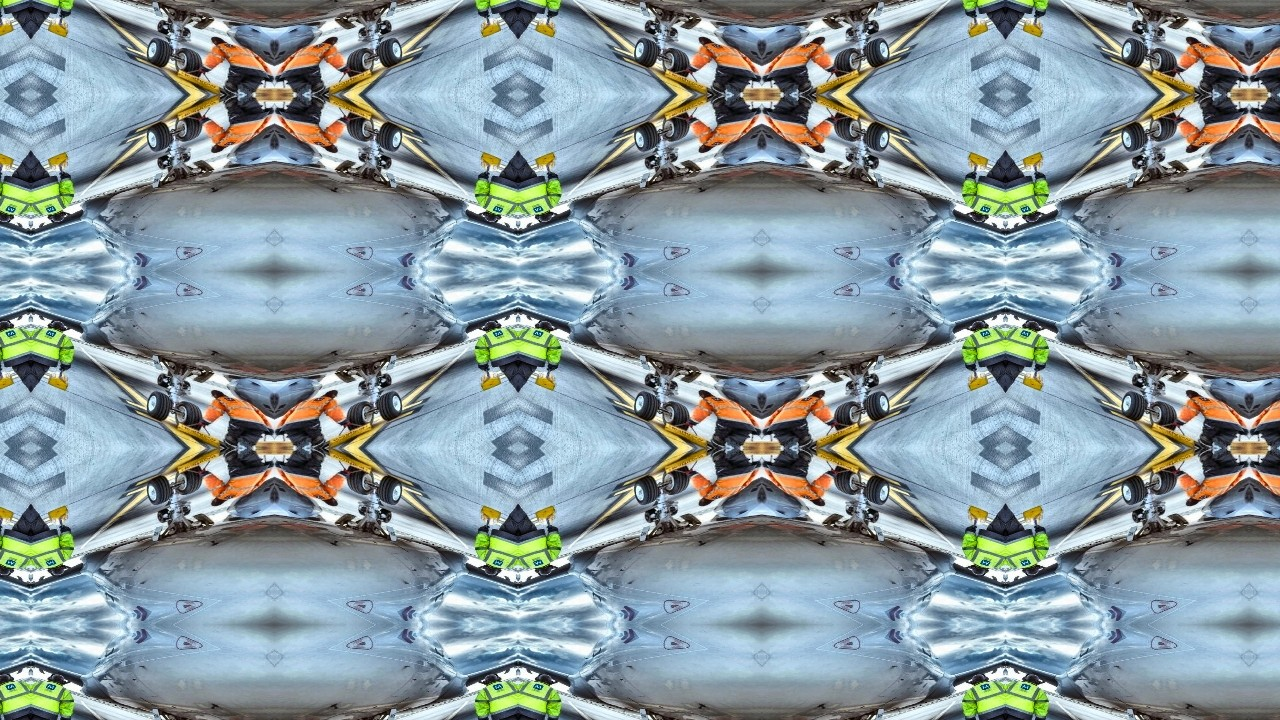chock: (176, 94, 223, 121), (325, 94, 372, 121), (664, 94, 711, 121), (813, 94, 860, 121), (1152, 94, 1199, 121), (176, 448, 223, 475), (325, 448, 372, 475), (664, 448, 711, 475), (813, 448, 860, 475), (1152, 448, 1199, 475), (176, 68, 223, 94), (325, 68, 372, 94), (664, 68, 711, 94), (813, 68, 860, 94), (1152, 68, 1199, 94), (176, 422, 223, 448), (325, 422, 372, 448), (664, 422, 711, 448), (813, 422, 860, 448), (1152, 422, 1199, 448), (44, 14, 74, 40), (474, 14, 504, 40), (532, 14, 562, 40), (962, 14, 992, 40), (1020, 14, 1050, 40), (44, 149, 74, 175), (474, 149, 504, 175), (532, 149, 562, 175), (962, 149, 992, 175), (1020, 149, 1050, 175), (44, 368, 74, 394), (474, 368, 504, 394), (532, 368, 562, 394), (962, 368, 992, 394), (1020, 368, 1050, 394), (44, 503, 74, 529), (474, 503, 504, 529), (532, 503, 562, 529), (962, 503, 992, 529), (1020, 503, 1050, 529), (0, 14, 16, 40), (0, 149, 16, 175), (0, 368, 16, 394), (0, 503, 16, 529)
wheel: (170, 107, 205, 146), (343, 107, 378, 146), (658, 107, 693, 146), (831, 107, 866, 146), (1146, 107, 1181, 146), (170, 461, 205, 500), (343, 461, 378, 500), (658, 461, 693, 500), (831, 461, 866, 500), (1146, 461, 1181, 500), (170, 43, 205, 81), (343, 43, 378, 81), (658, 43, 693, 81), (831, 43, 866, 81), (1146, 43, 1181, 81), (170, 397, 205, 435), (343, 397, 378, 435), (658, 397, 693, 435), (831, 397, 866, 435), (1146, 397, 1181, 435), (142, 33, 174, 71), (374, 33, 406, 71), (630, 33, 662, 71), (862, 33, 894, 71), (1118, 33, 1150, 71), (142, 117, 174, 155), (374, 117, 406, 155), (630, 117, 662, 155), (862, 117, 894, 155), (1118, 117, 1150, 155), (142, 387, 174, 425), (374, 387, 406, 425), (630, 387, 662, 425), (862, 387, 894, 425), (1118, 387, 1150, 425), (142, 471, 174, 509), (374, 471, 406, 509), (630, 471, 662, 509), (862, 471, 894, 509), (1118, 471, 1150, 509), (155, 17, 171, 35), (377, 17, 393, 35), (643, 17, 659, 35), (865, 17, 881, 35), (1131, 17, 1147, 35), (155, 371, 171, 389), (377, 371, 393, 389), (643, 371, 659, 389), (865, 371, 881, 389), (1131, 371, 1147, 389), (155, 154, 171, 171), (377, 154, 393, 171), (643, 154, 659, 171), (865, 154, 881, 171), (1131, 154, 1147, 171), (155, 508, 171, 525), (377, 508, 393, 525), (643, 508, 659, 525), (865, 508, 881, 525), (1131, 508, 1147, 525), (180, 25, 191, 36), (357, 25, 368, 36), (668, 25, 679, 36), (845, 25, 856, 36), (1156, 25, 1167, 36), (180, 153, 191, 164), (357, 153, 368, 164), (668, 153, 679, 164), (845, 153, 856, 164), (1156, 153, 1167, 164), (180, 379, 191, 390), (357, 379, 368, 390), (668, 379, 679, 390), (845, 379, 856, 390), (1156, 379, 1167, 390), (180, 507, 191, 518), (357, 507, 368, 518), (668, 507, 679, 518), (845, 507, 856, 518), (1156, 507, 1167, 518)
